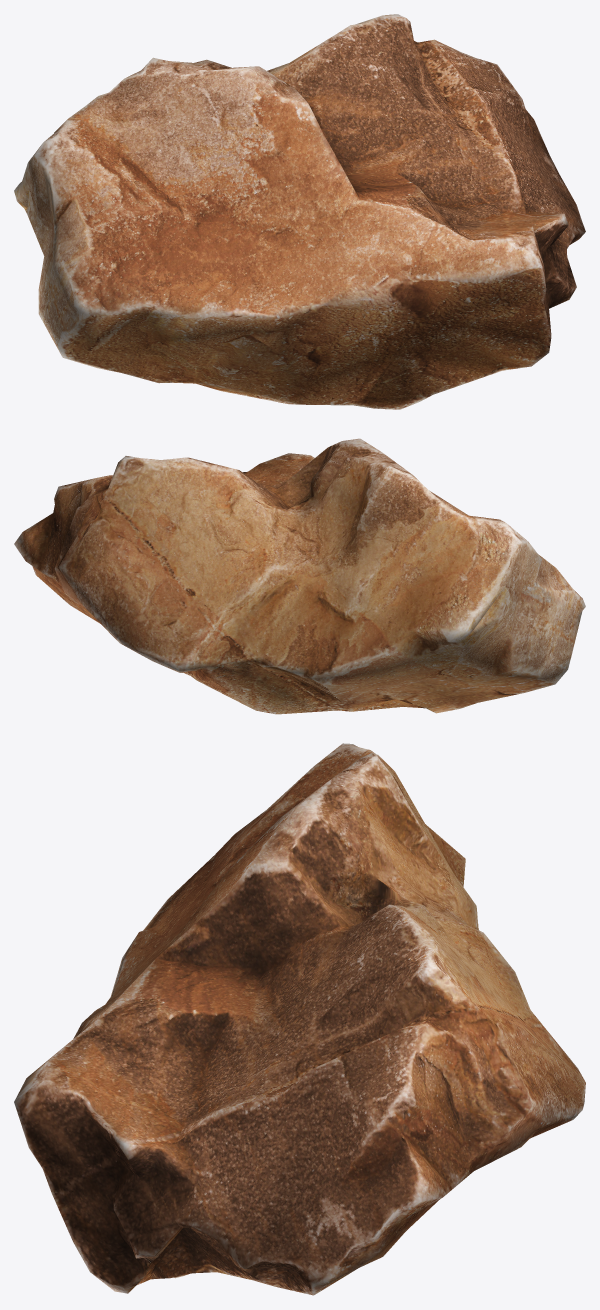
The model's file is rock1.obj.
3 views of the same model, one above another, from view 1: azimuth 30°, elevation 25°; view 2: azimuth 150°, elevation 25°; view 3: azimuth 270°, elevation 25° (orthographic). The views are drawn at different scales.
Parts seen in each view (by area): view 1: Rock_01_LOD0_Rock_01_LOD0.001; view 2: Rock_01_LOD0_Rock_01_LOD0.001; view 3: Rock_01_LOD0_Rock_01_LOD0.001.
Boxes of the visible parts, <box> form: Rock_01_LOD0_Rock_01_LOD0.001: <box>14,14,585,409</box>; Rock_01_LOD0_Rock_01_LOD0.001: <box>14,438,585,714</box>; Rock_01_LOD0_Rock_01_LOD0.001: <box>14,743,585,1295</box>.
Size of the model in its own units: 5.81 by 3.44 by 4.27.
1 material, 1 textured.
